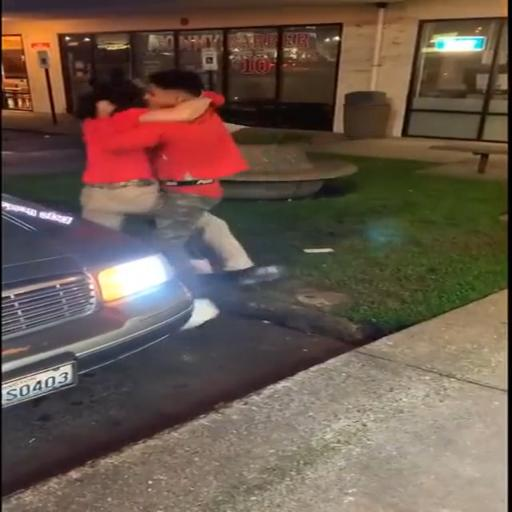violencia: (32, 59, 298, 346)
